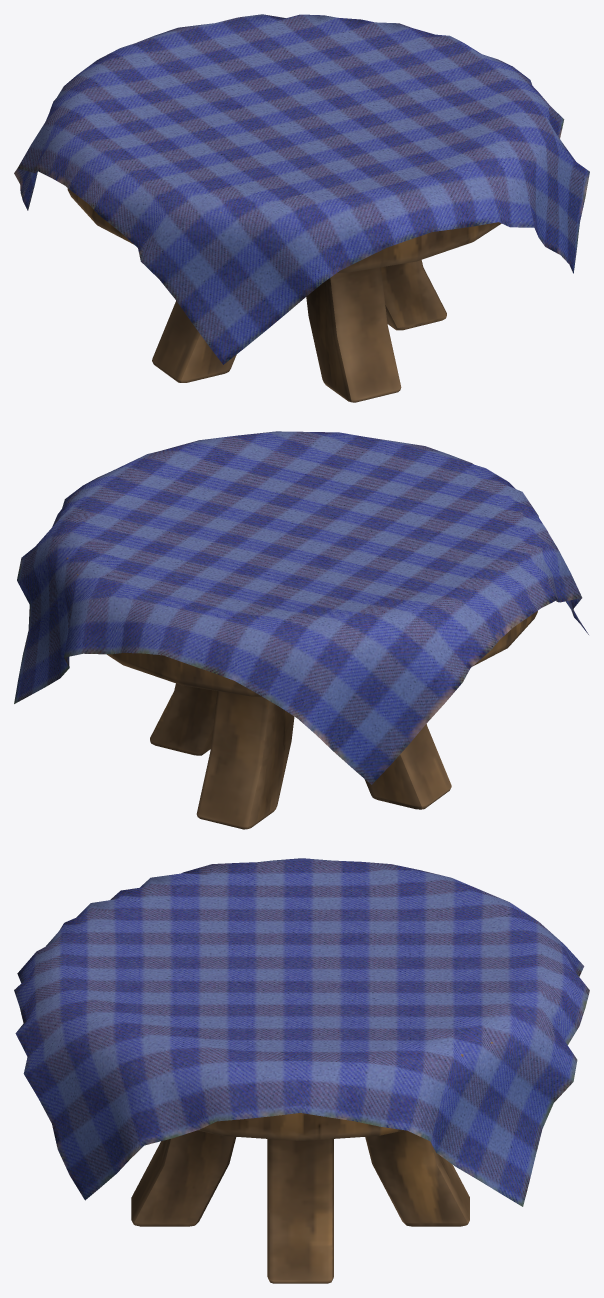
The model's file is Table_Circle.fbx.
3 views of the same model, one above another, from view 1: azimuth 30°, elevation 25°; view 2: azimuth 150°, elevation 25°; view 3: azimuth 270°, elevation 25° (orthographic). The views are drawn at different scales.
Visible parts, largest first — view 1: Table_Circle; view 2: Table_Circle; view 3: Table_Circle.
Boxes of the visible parts, x1,y1,x2,y2 form: Table_Circle: [14, 14, 589, 402]; Table_Circle: [14, 431, 588, 829]; Table_Circle: [14, 858, 589, 1283].
Size of the model in its own units: 268 by 132 by 269.
